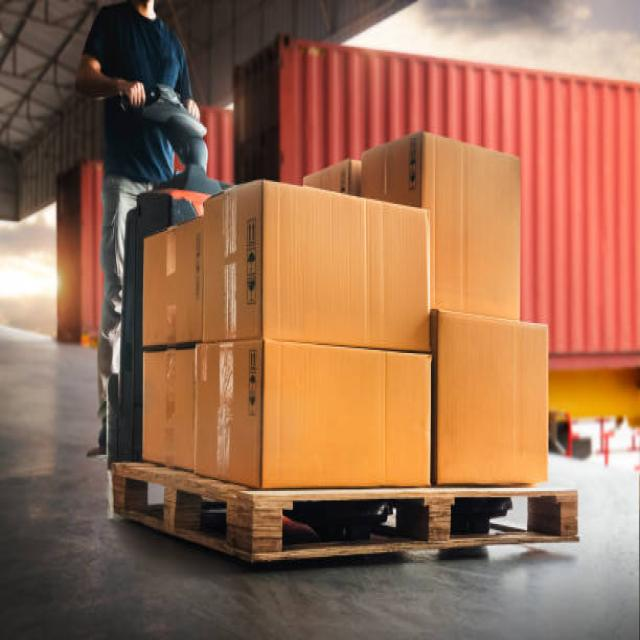Wooden-Pallets: (114, 458, 584, 563)
